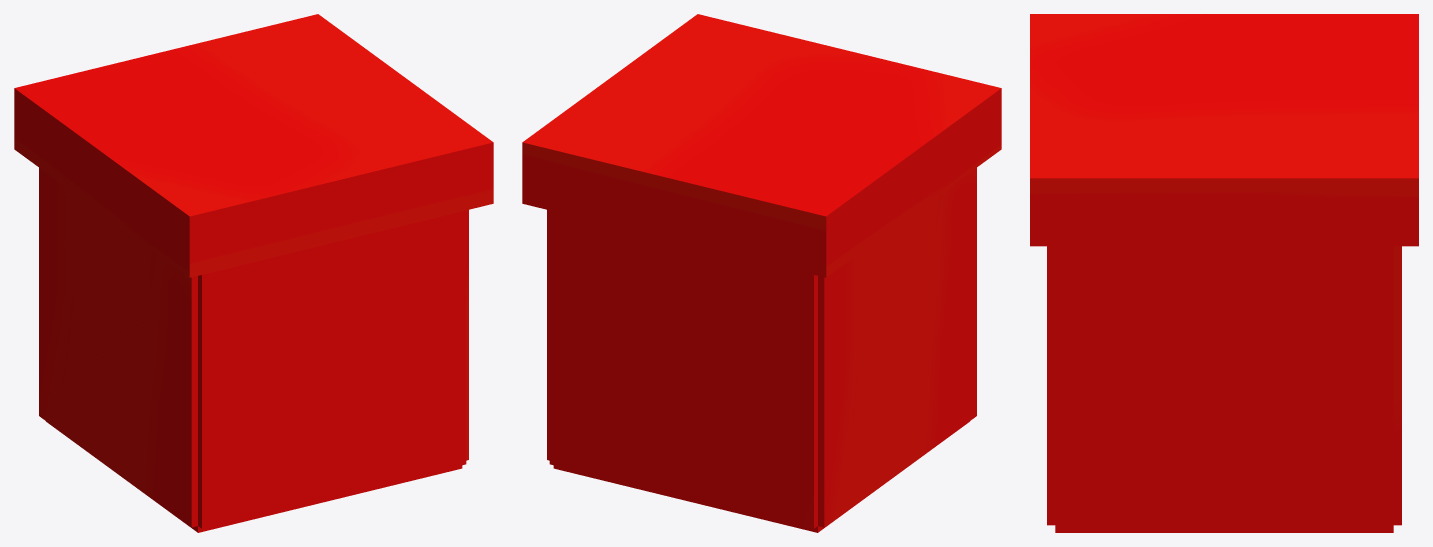
File: hako.fbx
3 renders of one model, left to right at view 1: azimuth 30°, elevation 25°; view 2: azimuth 150°, elevation 25°; view 3: azimuth 270°, elevation 25°, orthographic. The views are drawn at different scales.
Visible parts, largest first — view 1: Body, Head; view 2: Body, Head; view 3: Body, Head.
Part boxes in pixels (left/top/right/bottom): Body: left=39, top=168, right=468, bottom=532; Head: left=14, top=14, right=493, bottom=277; Body: left=547, top=168, right=976, bottom=532; Head: left=522, top=14, right=1001, bottom=277; Body: left=1047, top=246, right=1401, bottom=532; Head: left=1030, top=14, right=1418, bottom=246.
Size of the model in its own units: 230 by 238 by 230.
Materials: 2 (2 with a texture image).
